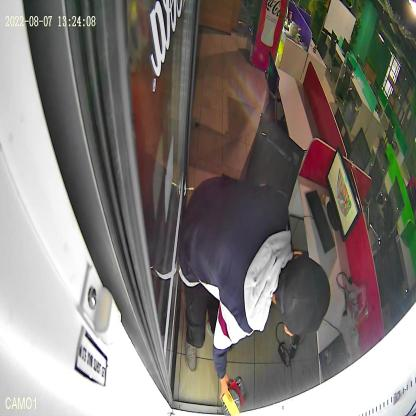red: (228, 376, 248, 408)
yellow: (222, 389, 240, 416)
